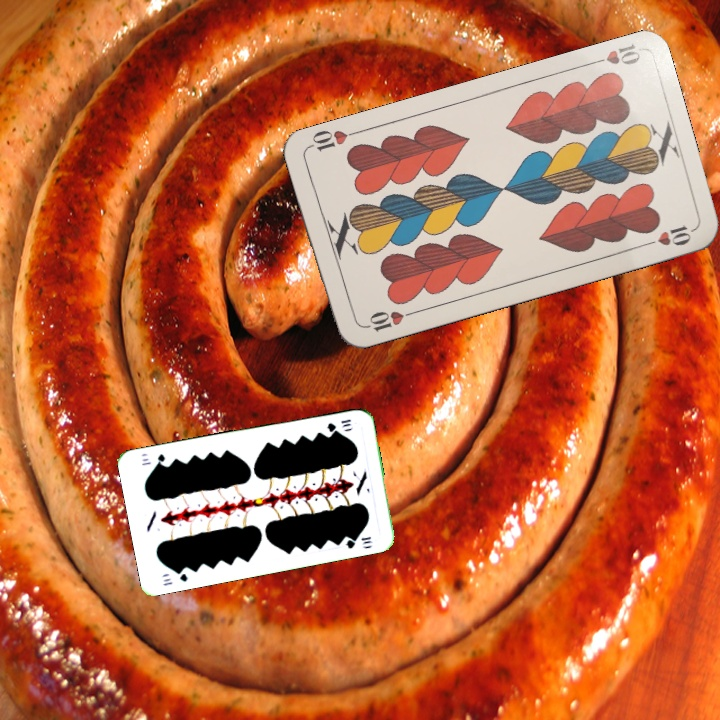G10: (159, 566, 190, 588), (323, 415, 353, 434)
H10: (584, 40, 643, 68), (358, 307, 417, 334)
